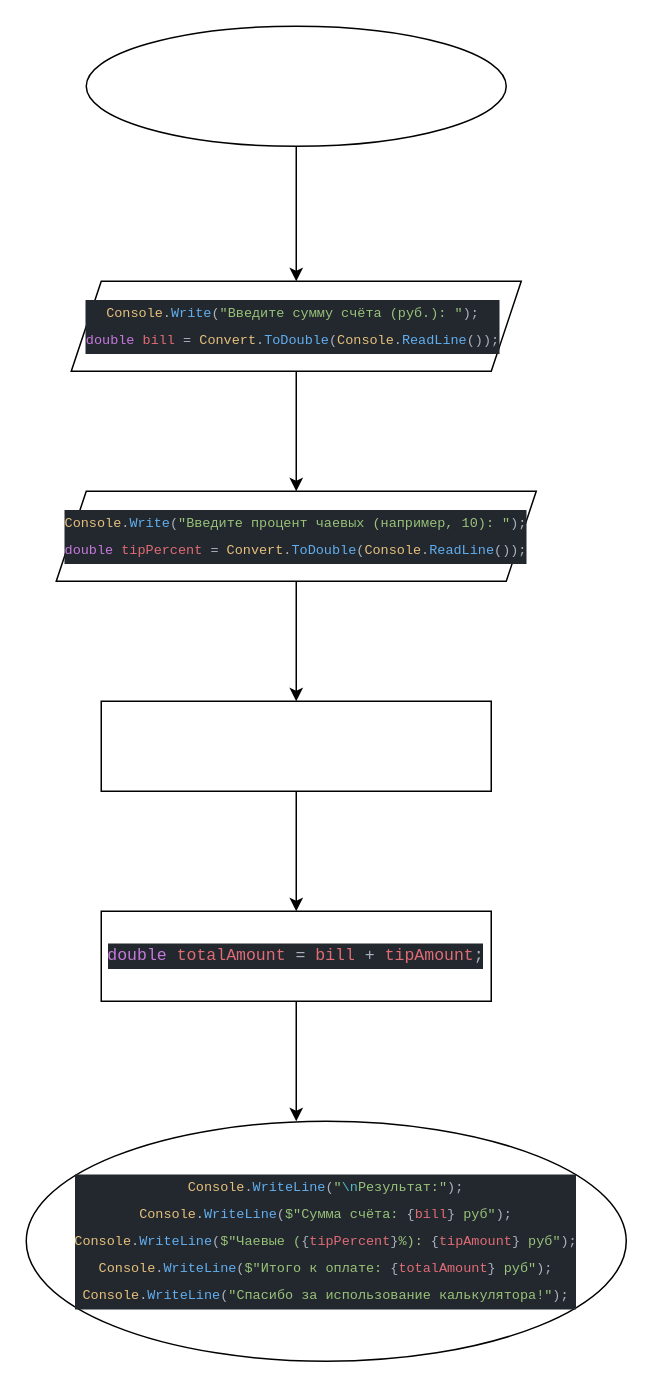
The diagram is 653 pixels wide and 1388 high, and some of its shapes have lost their labels. Each missing label, with the centre of its shape:
Console . WriteLine ( "Калькулятор чаевых" );: the point at 295,85
double tipAmount = bill * ( tipPercent / 100 );: the point at 295,745
